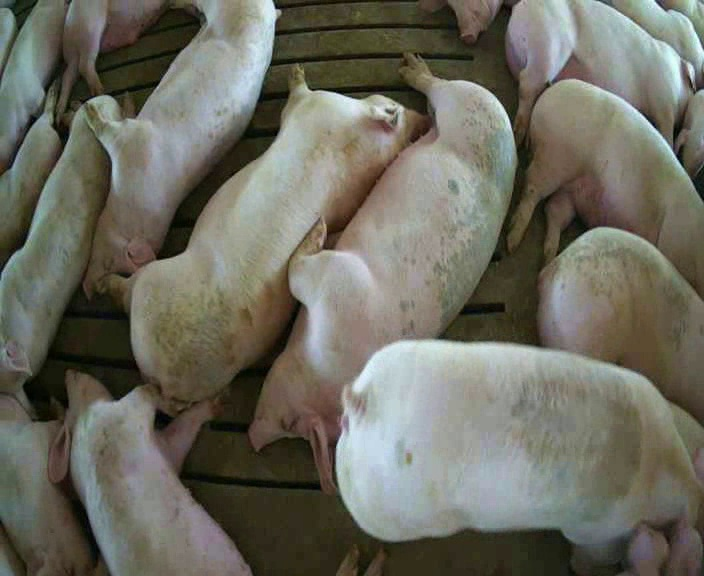pig: (249, 53, 516, 489), (103, 66, 424, 413), (336, 341, 697, 575), (84, 1, 280, 295), (508, 80, 703, 296), (0, 96, 120, 419), (538, 227, 703, 423), (505, 2, 693, 142), (56, 1, 167, 122), (0, 80, 61, 266), (0, 2, 66, 173), (608, 1, 703, 87)
